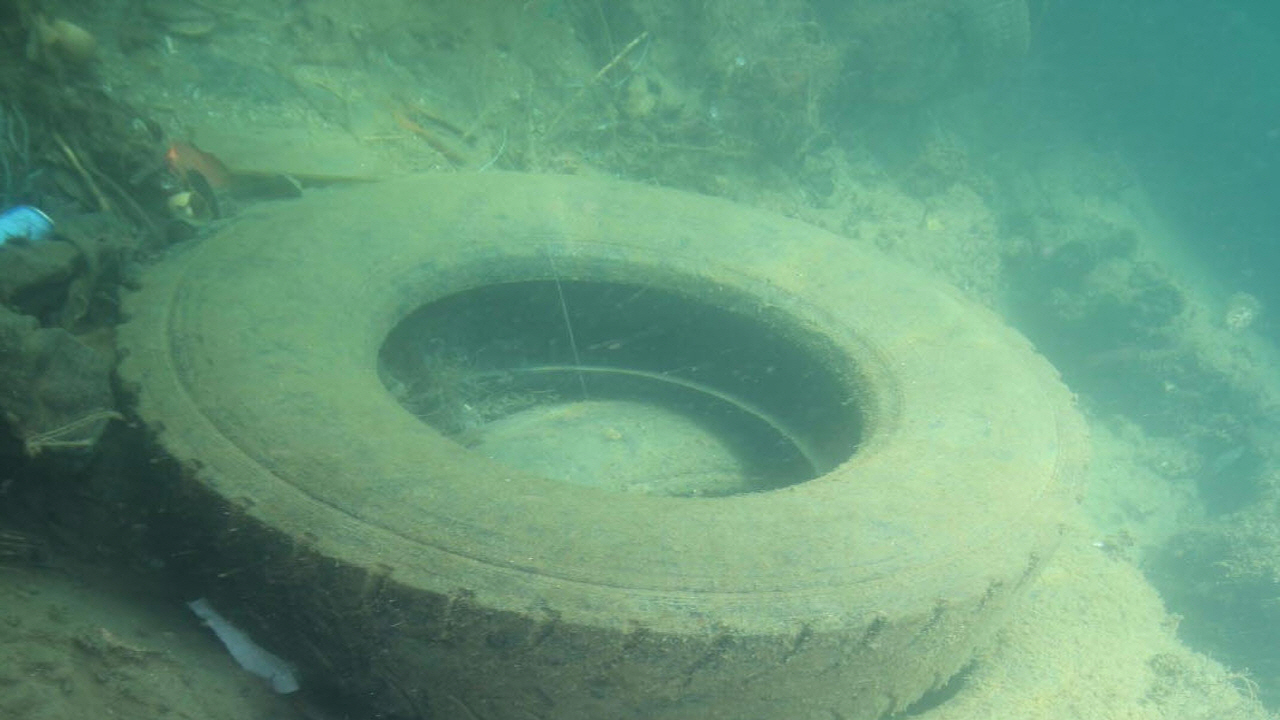tire: (112, 166, 1092, 720)
